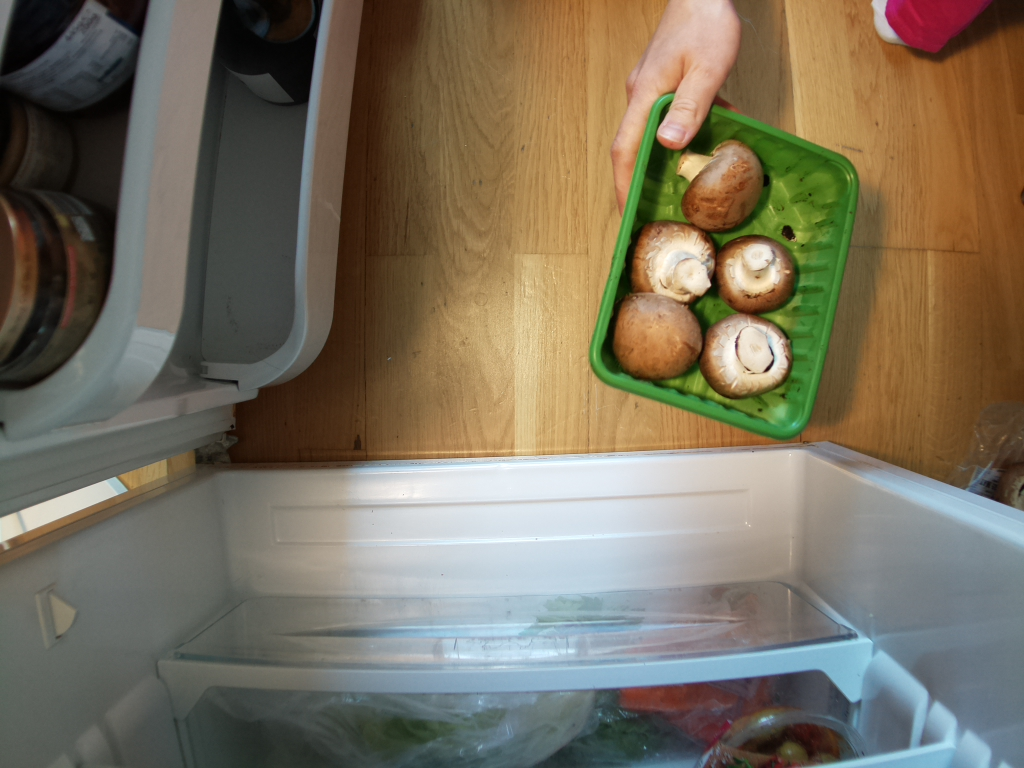mushrooms: (592, 86, 862, 442)
